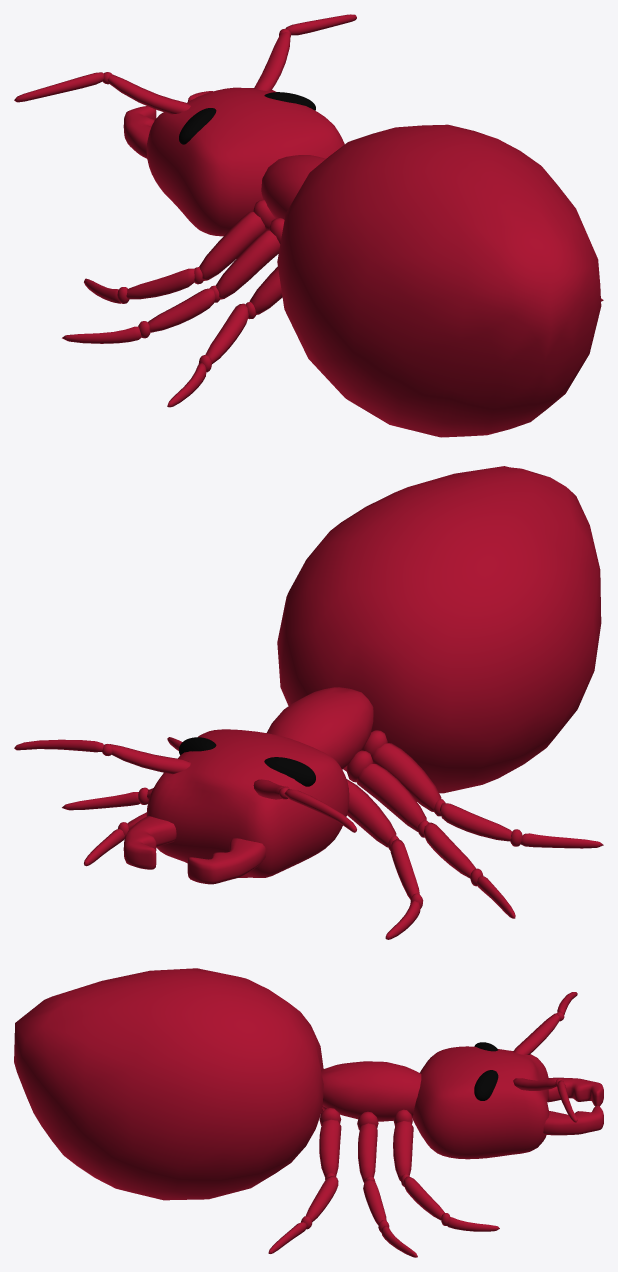
File: Reine rouge.fbx
The picture shows the model from 3 angles, top to bottom: view 1: azimuth 30°, elevation 25°; view 2: azimuth 150°, elevation 25°; view 3: azimuth 270°, elevation 25°; orthographic projection. The views are drawn at different scales.
Parts seen in each view (by area): view 1: Reine rouge; view 2: Reine rouge; view 3: Reine rouge.
Part boxes in pixels (box(x1,y1,x2,y2)): Reine rouge: box(14, 14, 603, 437); Reine rouge: box(14, 466, 603, 939); Reine rouge: box(14, 968, 603, 1257).
Bounding box in the file's own units: 4.92 × 2.82 × 7.2.
